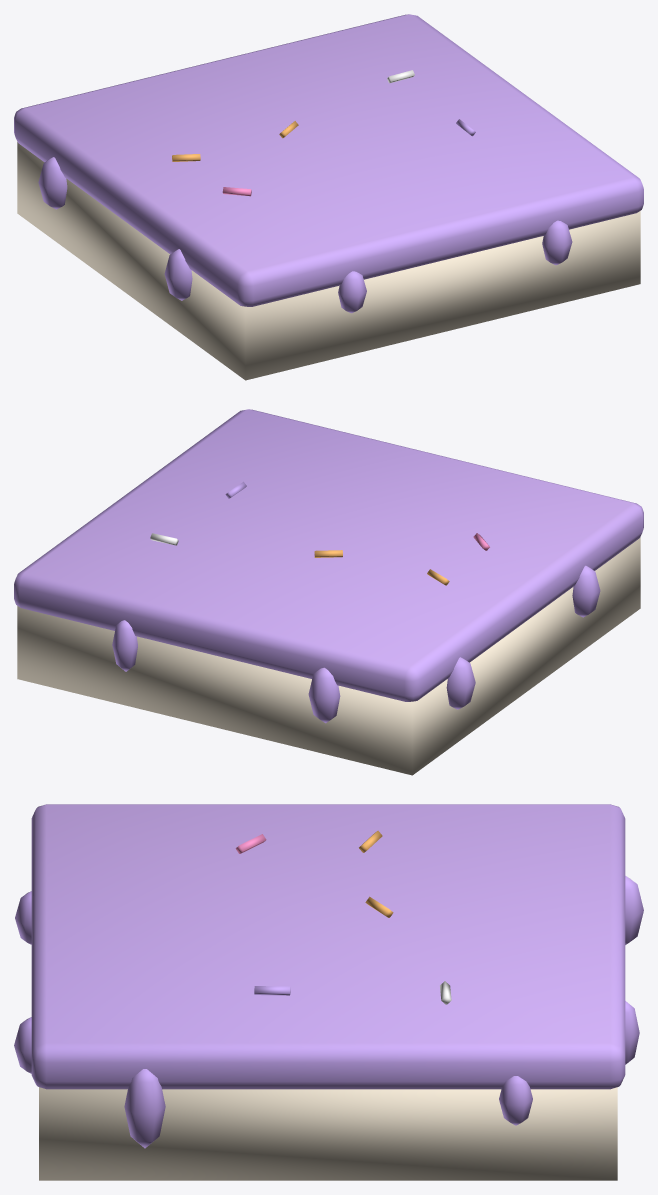
The model's file is bg_tile_lilac.glb.
3 renders of one model, top to bottom at view 1: azimuth 30°, elevation 25°; view 2: azimuth 150°, elevation 25°; view 3: azimuth 270°, elevation 25°, orthographic. The views are drawn at different scales.
Visible parts, largest first — view 1: M_Tile_lilac__t_top_lilac, M_Tile_lilac__t_side_lilac; view 2: M_Tile_lilac__t_top_lilac, M_Tile_lilac__t_side_lilac; view 3: M_Tile_lilac__t_top_lilac, M_Tile_lilac__t_side_lilac.
Part boxes in pixels (box(x1,y1,x2,y2)): M_Tile_lilac__t_top_lilac: box(14, 14, 643, 313); M_Tile_lilac__t_side_lilac: box(17, 142, 640, 380); M_Tile_lilac__t_top_lilac: box(14, 409, 643, 723); M_Tile_lilac__t_side_lilac: box(17, 537, 640, 775); M_Tile_lilac__t_top_lilac: box(14, 804, 643, 1148); M_Tile_lilac__t_side_lilac: box(39, 1087, 617, 1180).
Size of the model in its own units: 4.21 by 1.06 by 4.25.
